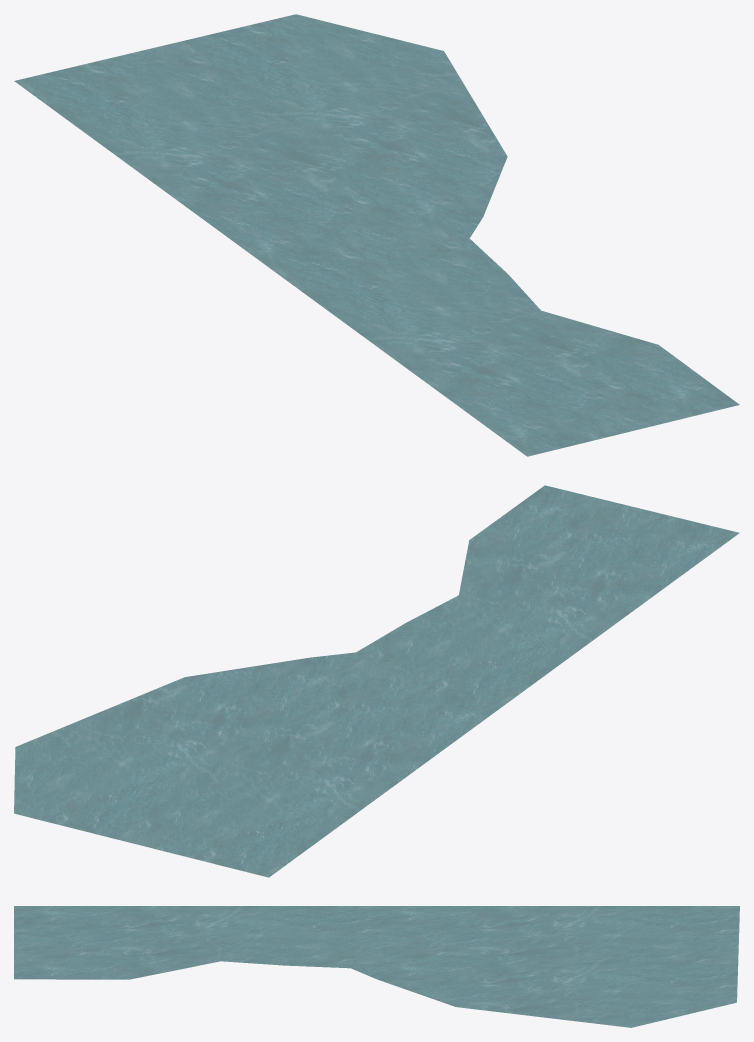
File: MareForma.glb
3 views of the same model, one above another, from view 1: azimuth 30°, elevation 25°; view 2: azimuth 150°, elevation 25°; view 3: azimuth 270°, elevation 25° (orthographic). The views are drawn at different scales.
Visible parts, largest first — view 1: Plane.001; view 2: Plane.001; view 3: Plane.001.
Part boxes in pixels (x1,y1,x2,y2): Plane.001: (14, 14, 739, 456); Plane.001: (14, 485, 739, 877); Plane.001: (14, 906, 739, 1027).
Size of the model in its own units: 13.62 by 0 by 34.29.
1 material, 1 textured.
